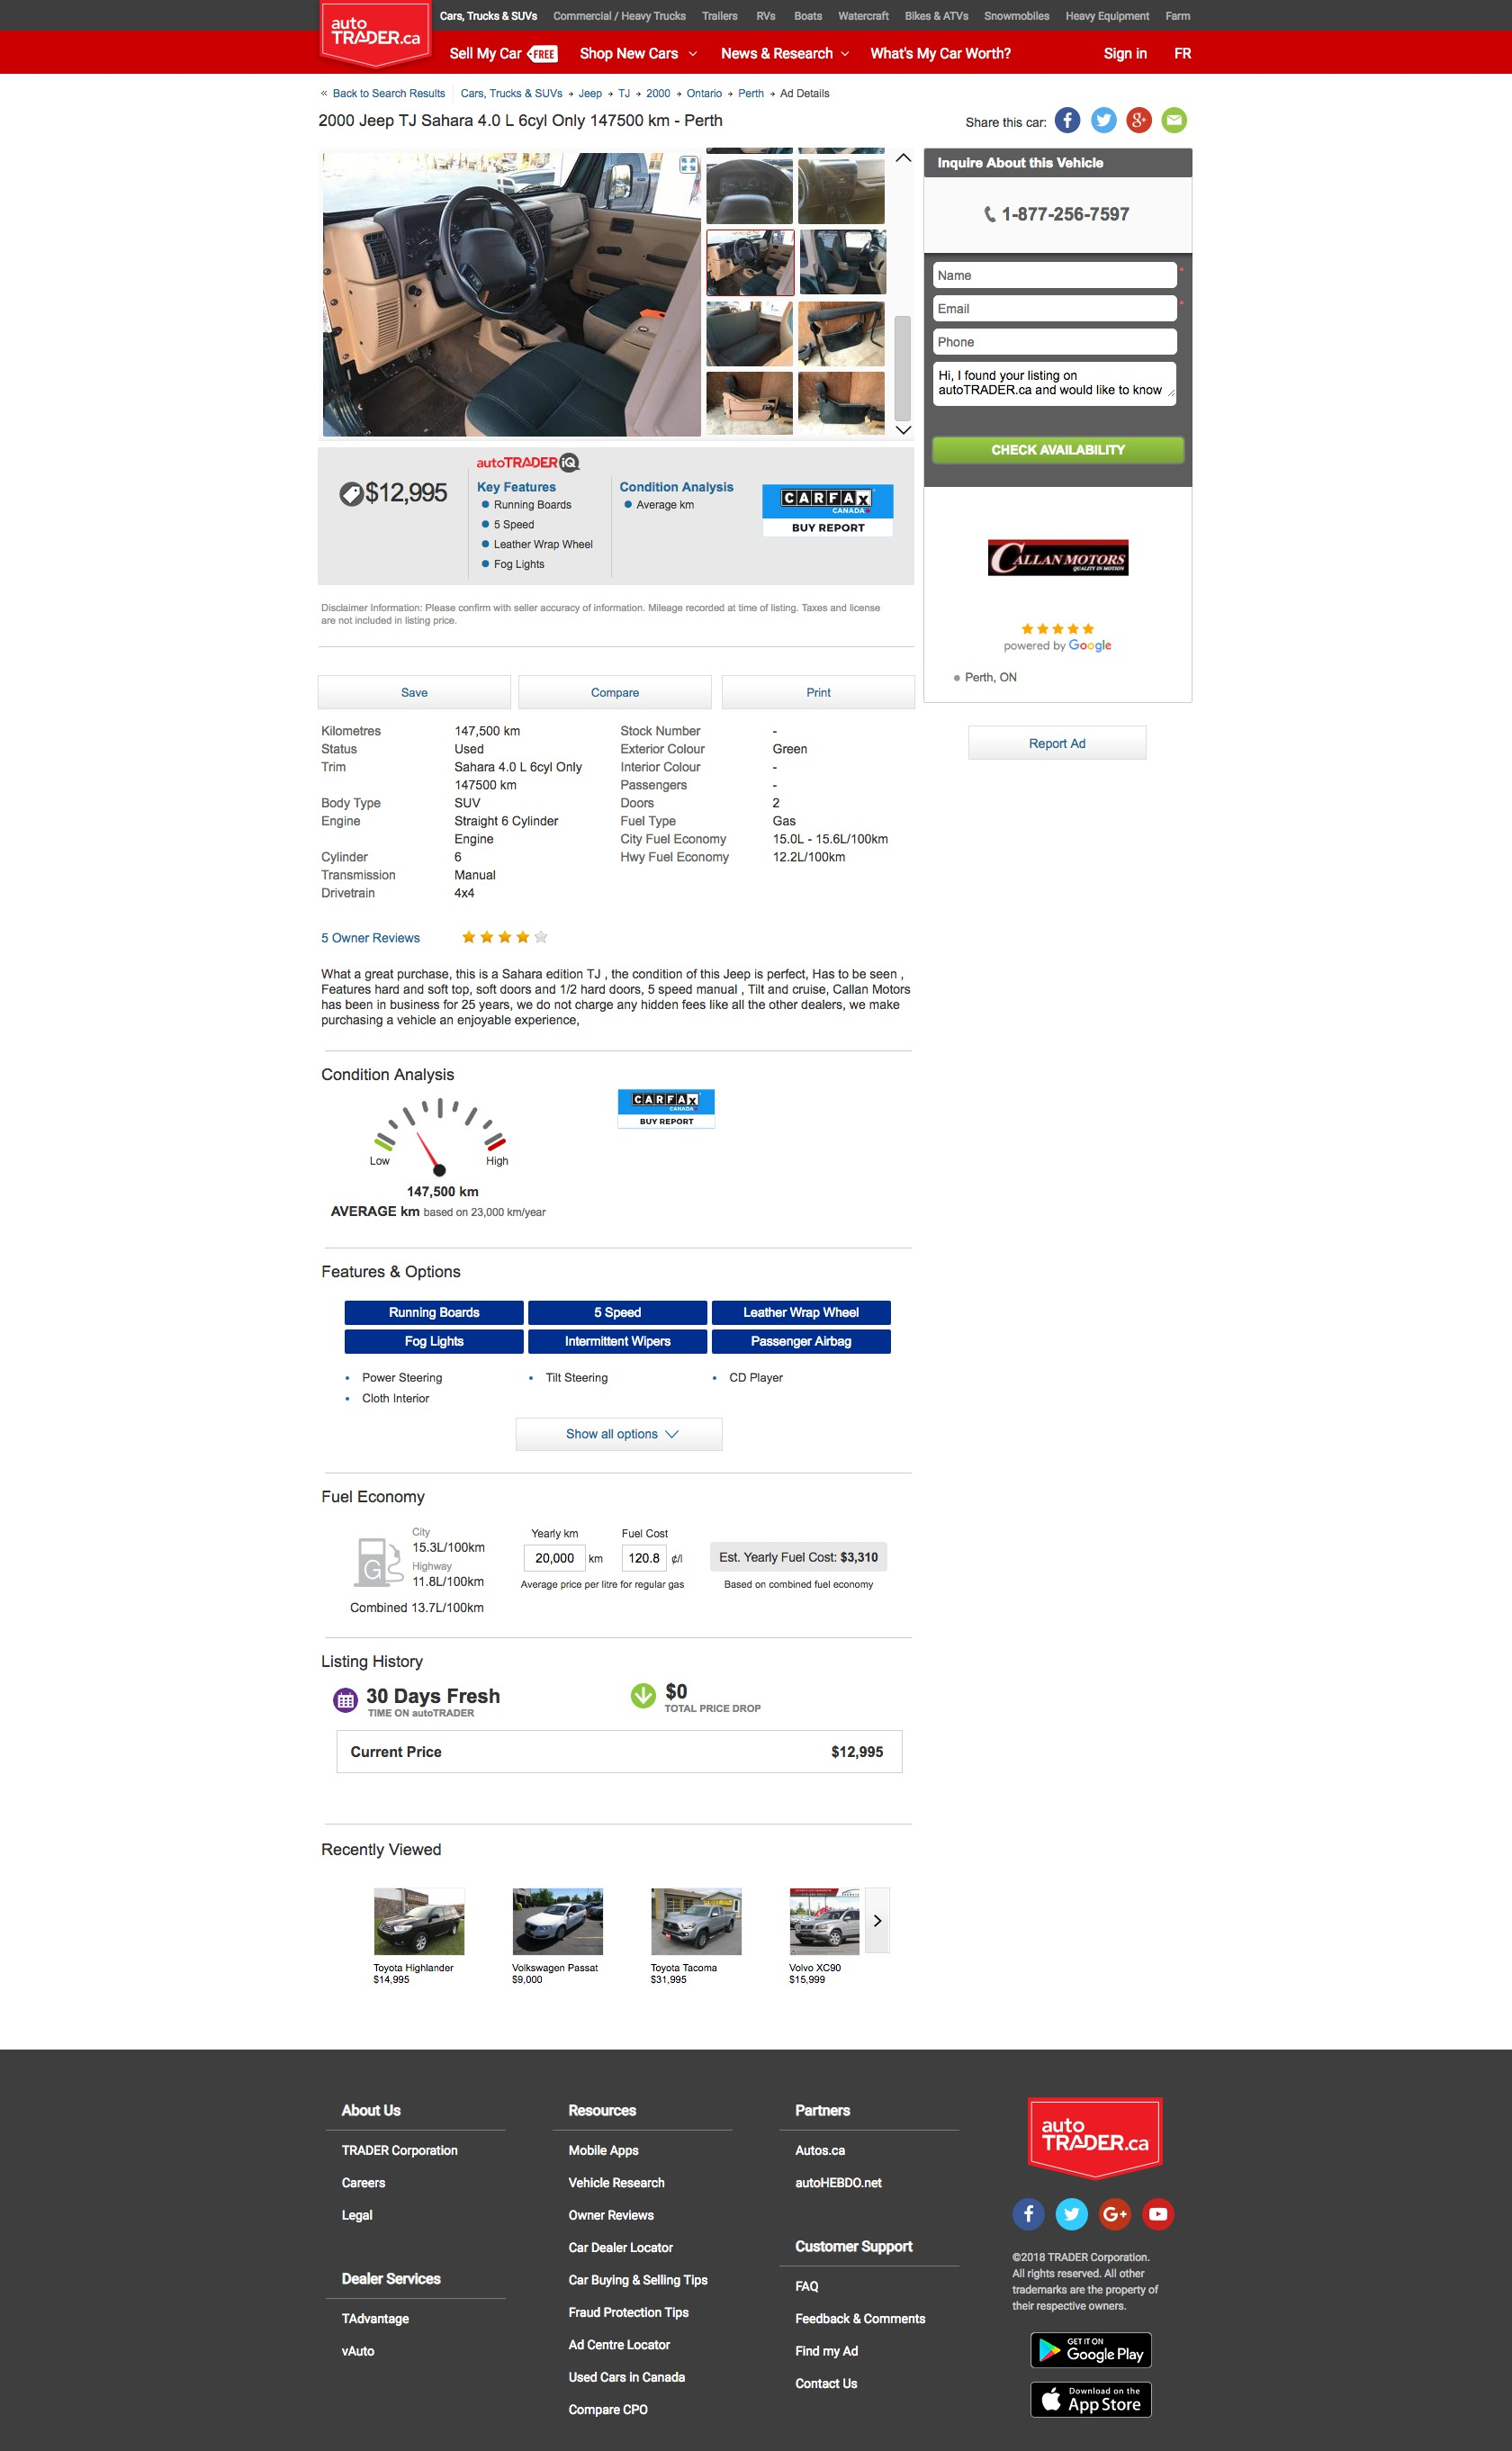car: (894, 424, 915, 439)
